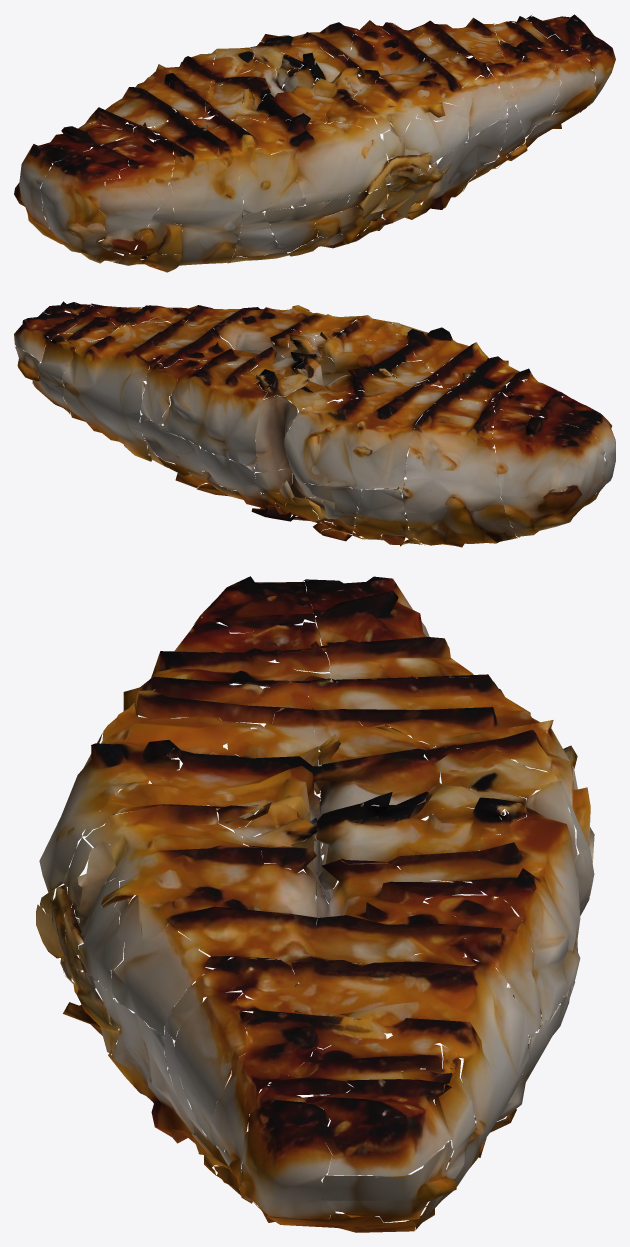
Rendered from cooked_fish.glb.
3 views of the same model, one above another, from view 1: azimuth 30°, elevation 25°; view 2: azimuth 150°, elevation 25°; view 3: azimuth 270°, elevation 25° (orthographic). The views are drawn at different scales.
Parts seen in each view (by area): view 1: tripo_node_33402be8-7e87-499d-9dbc-3eda0159eafb; view 2: tripo_node_33402be8-7e87-499d-9dbc-3eda0159eafb; view 3: tripo_node_33402be8-7e87-499d-9dbc-3eda0159eafb.
Boxes of the visible parts, <box> form: tripo_node_33402be8-7e87-499d-9dbc-3eda0159eafb: <box>14,14,615,272</box>; tripo_node_33402be8-7e87-499d-9dbc-3eda0159eafb: <box>14,301,615,547</box>; tripo_node_33402be8-7e87-499d-9dbc-3eda0159eafb: <box>36,576,594,1232</box>.
Size of the model in its own units: 1 by 0.2488 by 0.4276.
Materials: 1 (1 with a texture image).
